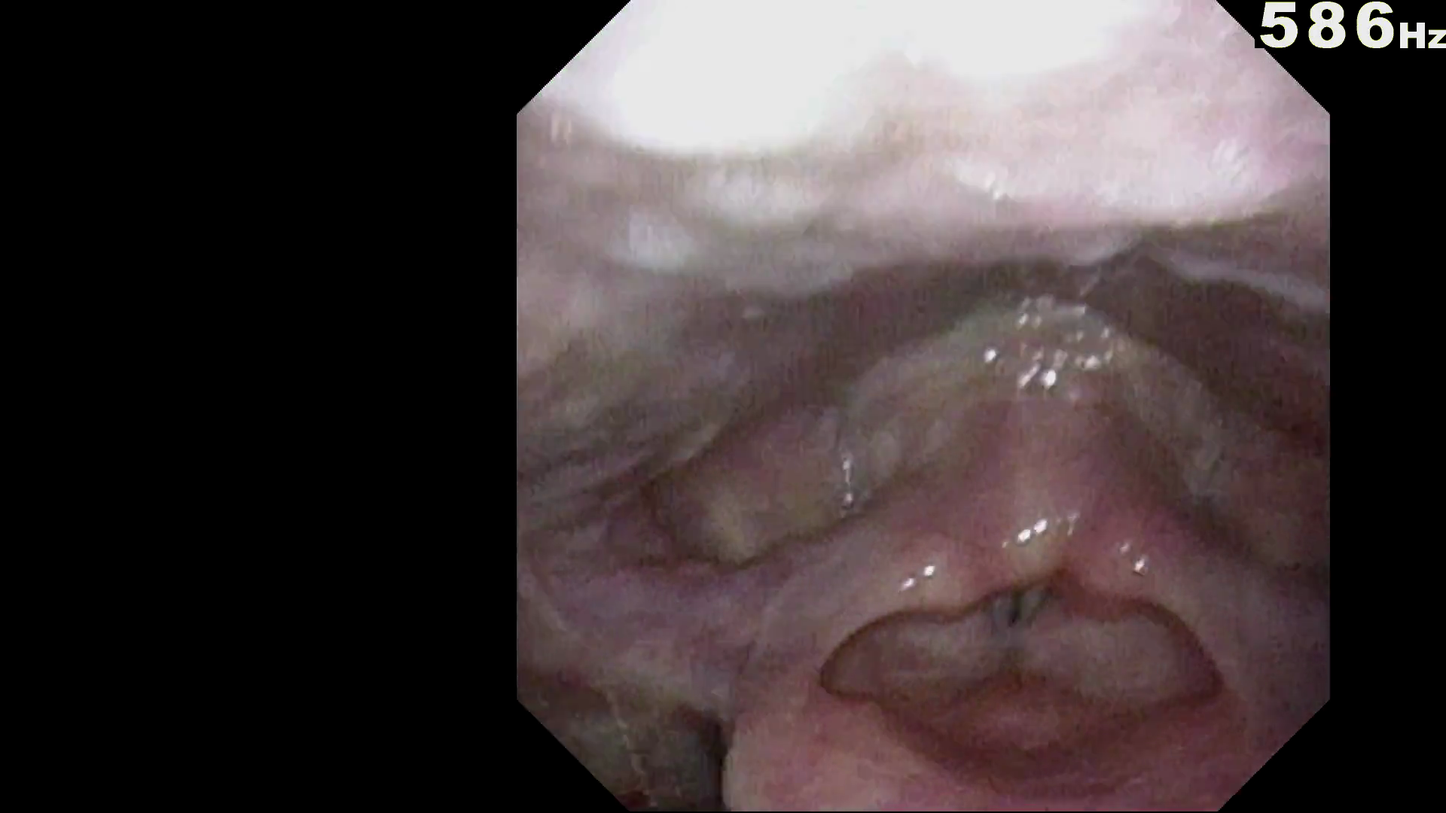epiglottis: (678, 520, 1269, 698)
trachea: (957, 592, 1078, 711)
